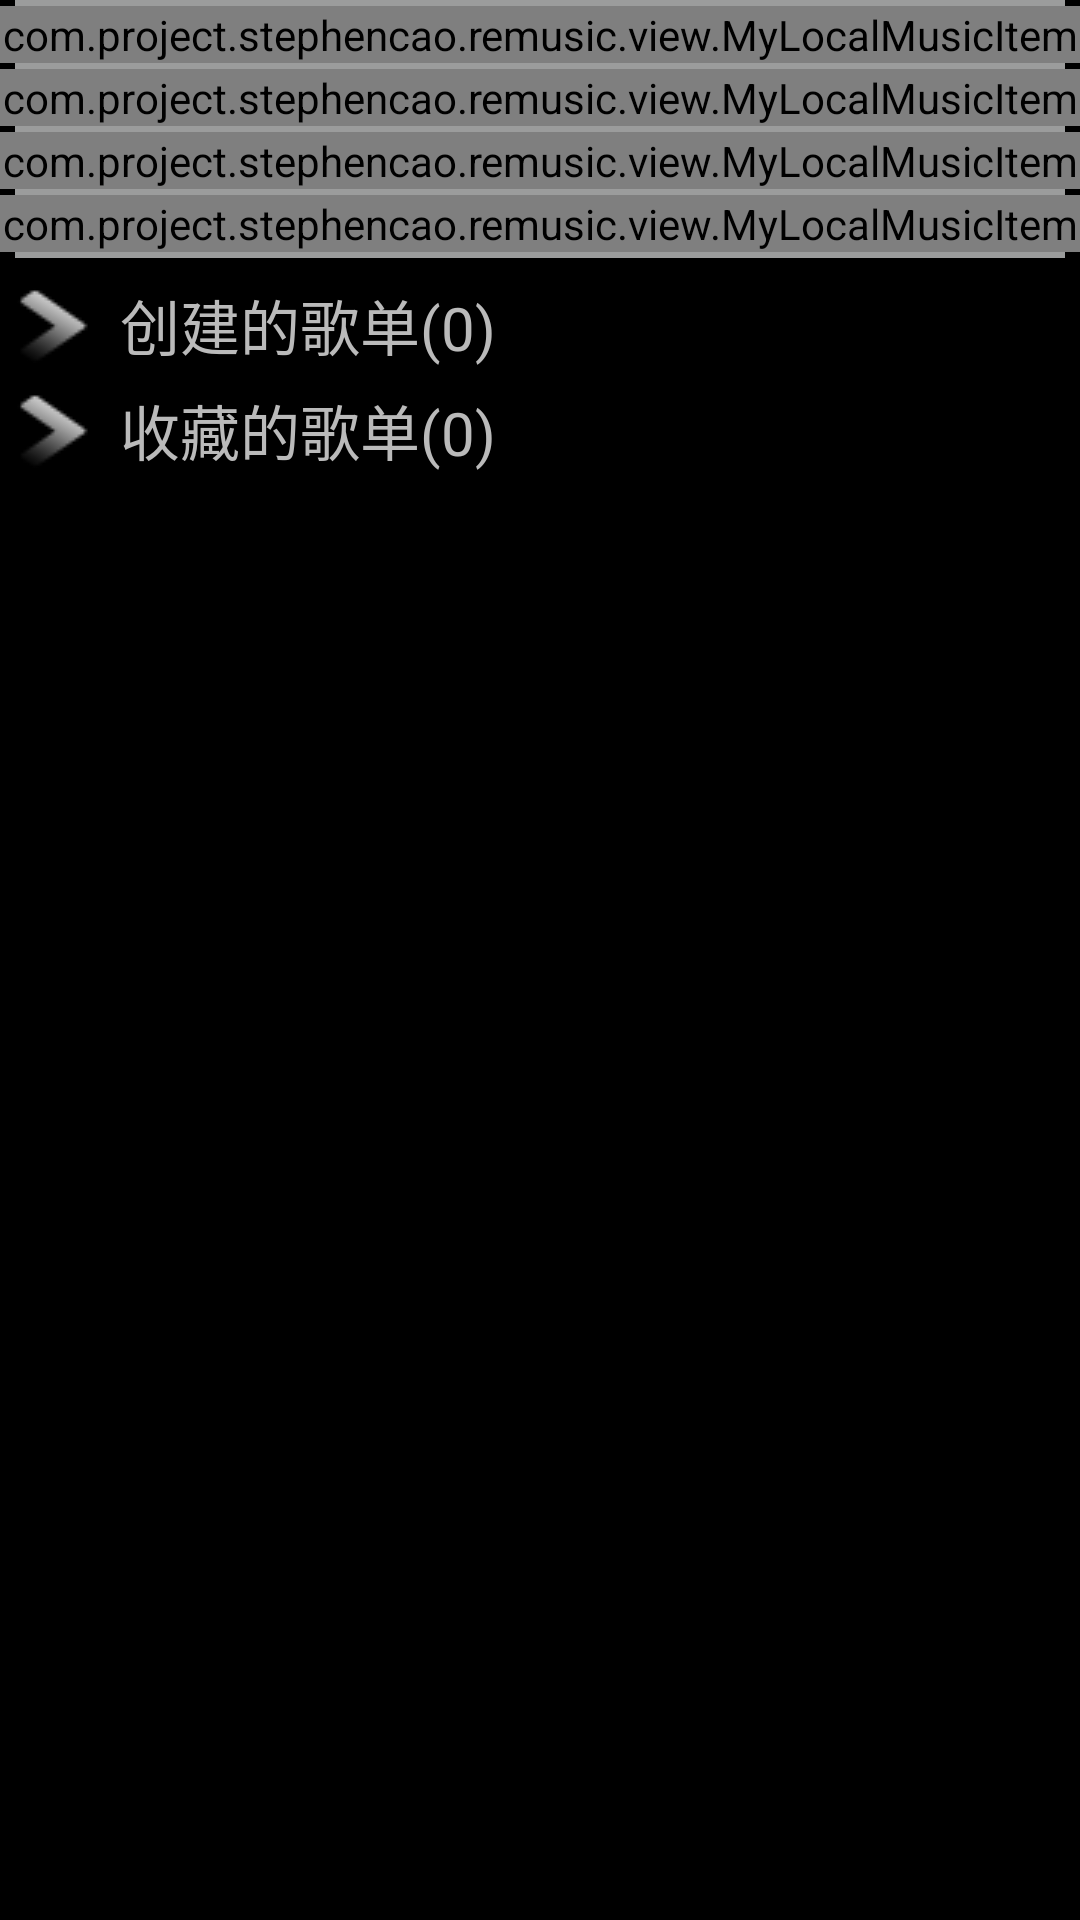

Icons on this 1080 × 1920 Android screen, each with its box as (x1=x1, y1=y1, x2=x2, y2=y2):
arrow right: (x1=20, y1=290, x2=88, y2=355), (x1=20, y1=395, x2=88, y2=460)
